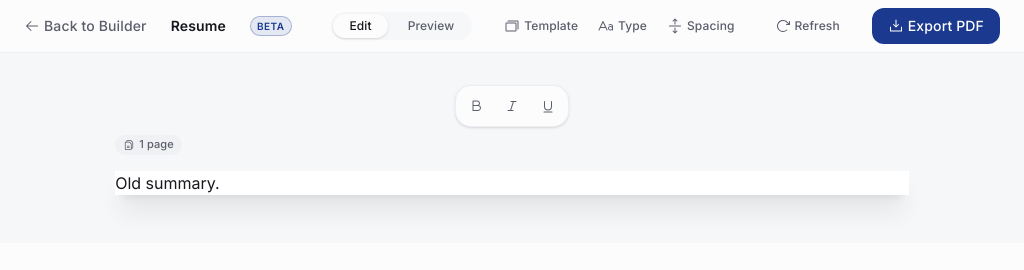
it: Studio preview page › surfaces an export failure rather than swallowing it
Click the button "Export PDF".
click(936, 26)  # box [872,8,1000,44]
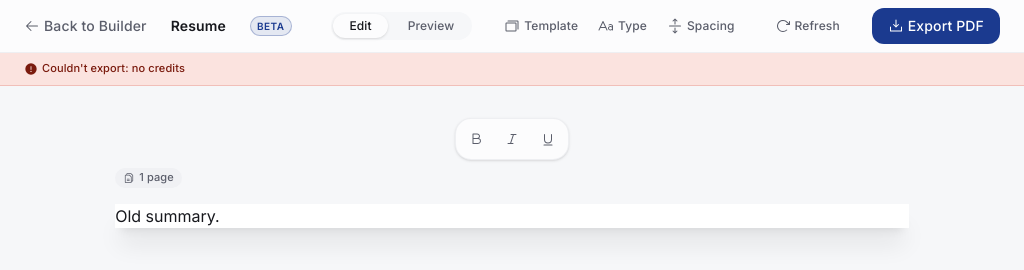
Expected: the message "Couldn't export: no credits" is shown, [0,53,1023,86]
Expected: the message shows "no credits", [132,61,185,75]
